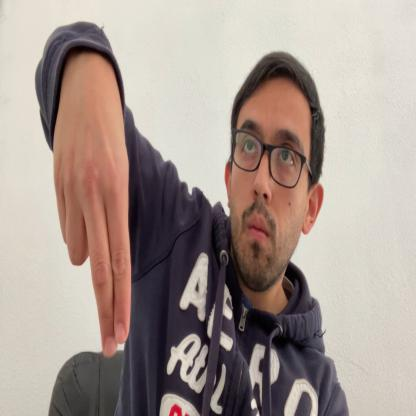N: (51, 63, 131, 358)
